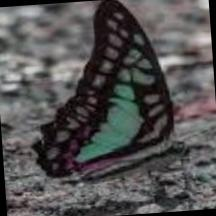butterfly: (32, 0, 182, 179)
